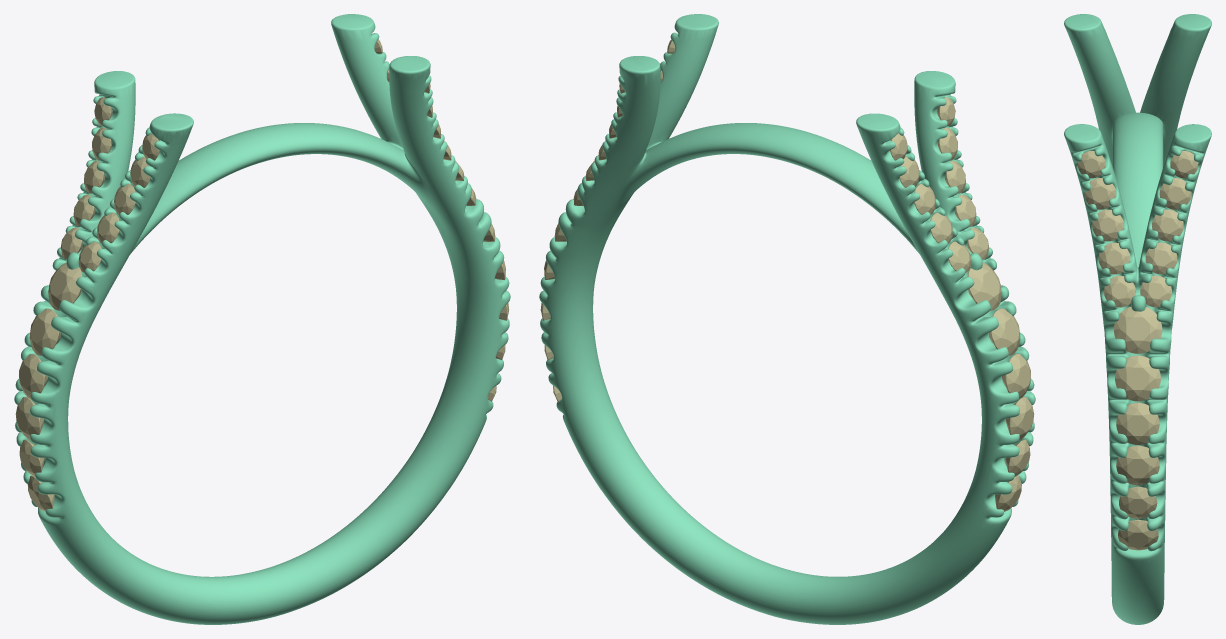
3 renders of one model, left to right at view 1: azimuth 30°, elevation 25°; view 2: azimuth 150°, elevation 25°; view 3: azimuth 270°, elevation 25°, orthographic. The views are drawn at different scales.
Visible parts, largest first — view 1: Metal02, Diamond_Gem.015, Diamond_Gem.014, Diamond_Gem.012, Diamond_Gem.013; view 2: Metal02, Diamond_Gem.015, Diamond_Gem.014, Diamond_Gem.012, Diamond_Gem.013; view 3: Metal02, Diamond_Gem.016, Diamond_Gem.017, Diamond_Gem.019, Diamond_Gem.018, Diamond_Gem.020, Diamond_Gem.021, Diamond_Gem.026, Diamond_Gem.028, Diamond_Gem.030, Diamond_Gem.025, Diamond_Gem.029 (+5 smaller).
Boxes of the visible parts, x1,y1,x2,y2 form: Metal02: (14,14,510,624); Diamond_Gem.015: (48,262,82,310); Diamond_Gem.014: (29,308,61,355); Diamond_Gem.012: (19,354,47,398); Diamond_Gem.013: (15,397,43,440); Metal02: (539,14,1035,624); Diamond_Gem.015: (967,262,1001,310); Diamond_Gem.014: (988,308,1020,355); Diamond_Gem.012: (1002,354,1030,398); Diamond_Gem.013: (1006,397,1034,440); Metal02: (1064,14,1211,624); Diamond_Gem.016: (1114,306,1162,353); Diamond_Gem.017: (1115,355,1160,401); Diamond_Gem.019: (1116,402,1159,444); Diamond_Gem.018: (1116,445,1159,485); Diamond_Gem.020: (1119,486,1157,518); Diamond_Gem.021: (1118,519,1158,550); Diamond_Gem.026: (1152,209,1183,241); Diamond_Gem.028: (1104,275,1135,307); Diamond_Gem.030: (1092,209,1123,241); Diamond_Gem.025: (1145,242,1177,274); Diamond_Gem.029: (1098,242,1130,274).
Size of the model in its own units: 20.9 by 22.65 by 5.8.
